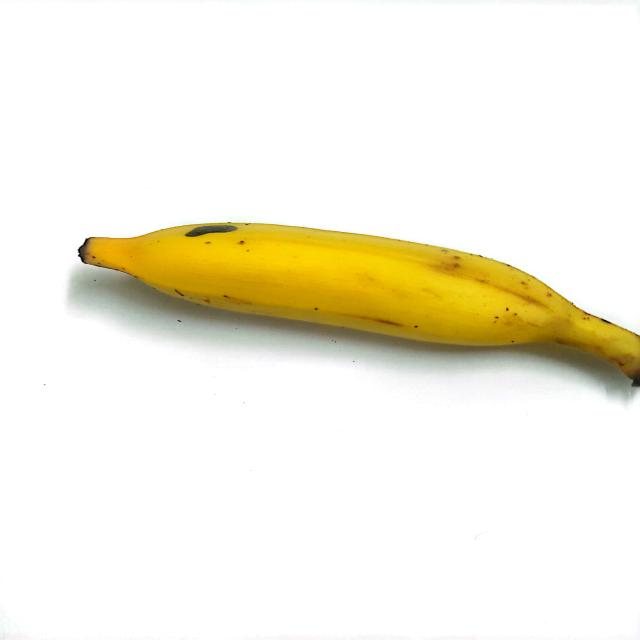fresh_banana: (71, 223, 640, 383)
